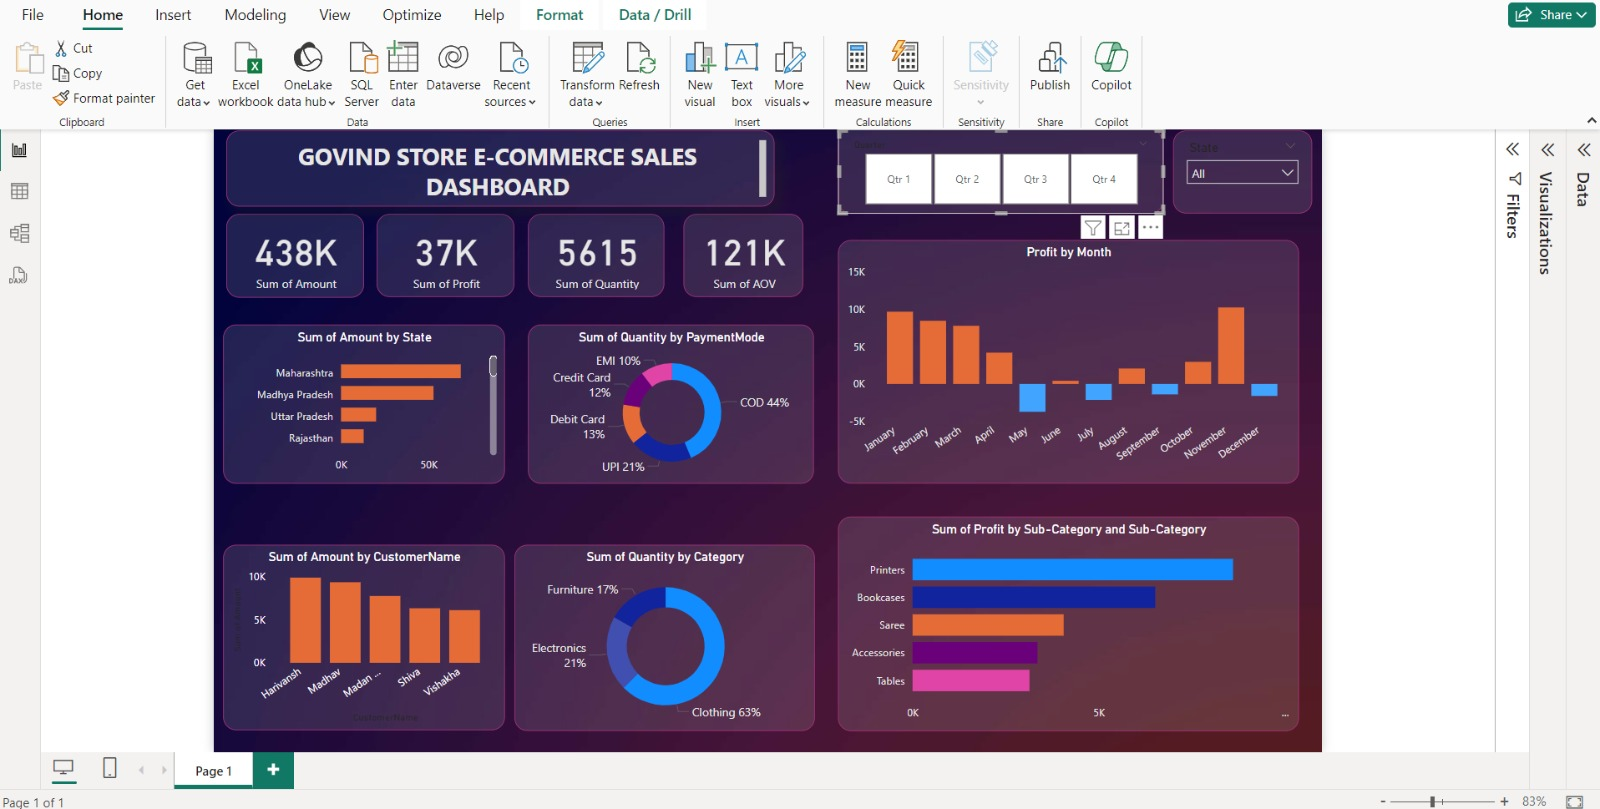

The dashboard page shown, as its layout file describes it:
{"tool":"powerbi","page":{"name":"Page 1","canvas":[1280,720],"ordinal":0},"visuals":[{"type":"columnChart","title":"Profit by Month","fields":{"Y":["Sum(Details.Profit)"],"Category":["Orders.Order Date.Variation.Date Hierarchy.Month"]},"box":[721.8,127.6,532.4,281.3],"z":1000},{"type":"barChart","fields":{"Category":["Details.Sub-Category"],"Series":["Details.Sub-Category"],"Y":["Sum(Details.Profit)"]},"box":[721.8,447.3,532.4,248.4],"z":2000},{"type":"donutChart","fields":{"Category":["Details.Category"],"Y":["Sum(Details.Quantity)"]},"box":[347.2,480.3,347.2,215.4],"z":3000},{"type":"donutChart","fields":{"Category":["Details.PaymentMode","Details.Category"],"Y":["Sum(Details.Quantity)"]},"box":[363.6,225,330.7,183.9],"z":4000},{"type":"slicer","fields":{"Values":["Orders.State"]},"box":[1108.8,1.4,160.5,96.1],"z":5000},{"type":"card","fields":{"Values":["Sum(Details.Profit)"]},"box":[188,97.4,159.2,96.1],"z":6000},{"type":"card","fields":{"Values":["Sum(Details.Quantity)"]},"box":[363.6,97.4,157.8,96.1],"z":7000},{"type":"card","fields":{"Values":["Sum(Details.AOV)"]},"box":[543.4,97.4,138.6,96.1],"z":8000},{"type":"barChart","fields":{"Category":["Orders.State"],"Y":["Sum(Details.Amount)"]},"box":[11,225,325.2,183.9],"z":9000},{"type":"columnChart","fields":{"Category":["Orders.CustomerName"],"Y":["Sum(Details.Amount)"]},"box":[11,480.3,325.2,214.1],"z":10000},{"type":"slicer","fields":{"Values":["Orders.Order Date.Variation.Date Hierarchy.Quarter"]},"box":[721.8,0,376,97.4],"z":11000},{"type":"card","fields":{"Values":["Sum(Details.Amount)"]},"box":[14.5,97.7,159.3,96.5],"z":12000},{"type":"textbox","box":[14.5,1.2,633.4,88.1],"z":12001}]}

Visuals, with their boxes on the page's 1280x720 design canvas (x1, y1, x2, y2). These are canvas units, not pixel positions in the 1600x809 screenshot, which may show the page scaled, cropped or inside an application window:
"Profit by Month" columnChart: l=722, t=128, r=1254, b=409
barChart - Details.Sub-Category x Details.Sub-Category: l=722, t=447, r=1254, b=696
donutChart - Details.Category x Sum(Details.Quantity): l=347, t=480, r=694, b=696
donutChart - Details.PaymentMode x Details.Category: l=364, t=225, r=694, b=409
slicer - Orders.State: l=1109, t=1, r=1269, b=98
card - Sum(Details.Profit): l=188, t=97, r=347, b=194
card - Sum(Details.Quantity): l=364, t=97, r=521, b=194
card - Sum(Details.AOV): l=543, t=97, r=682, b=194
barChart - Orders.State x Sum(Details.Amount): l=11, t=225, r=336, b=409
columnChart - Orders.CustomerName x Sum(Details.Amount): l=11, t=480, r=336, b=694
slicer - Orders.Order Date.Variation.Date Hierarchy.Quarter: l=722, t=0, r=1098, b=97
card - Sum(Details.Amount): l=14, t=98, r=174, b=194
textbox: l=14, t=1, r=648, b=89
